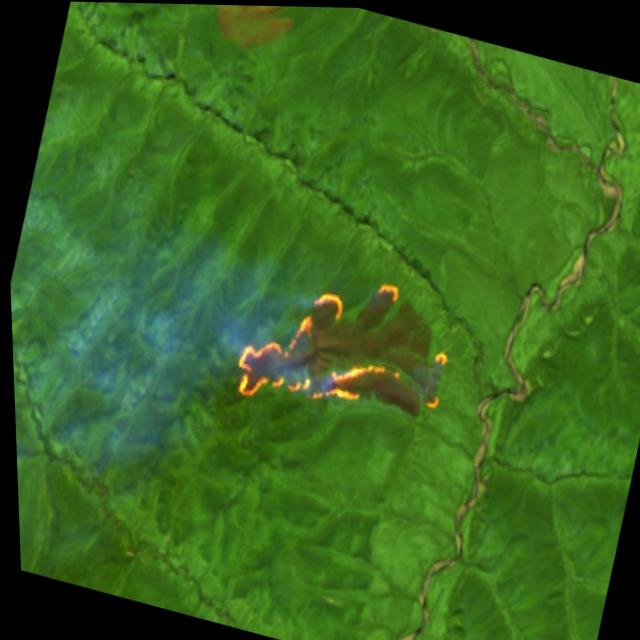fire: (221, 244, 465, 451)
